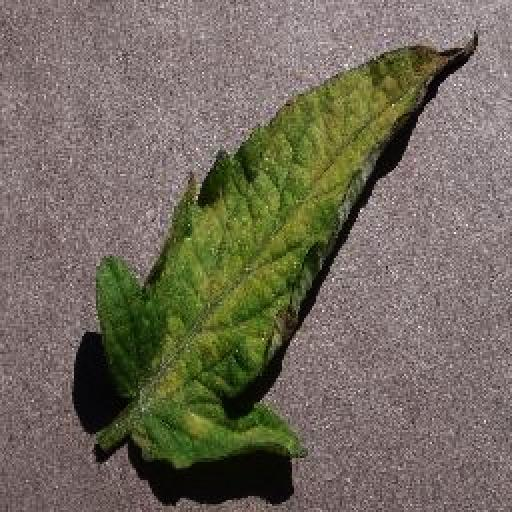disease_tomato: (99, 44, 443, 466)
